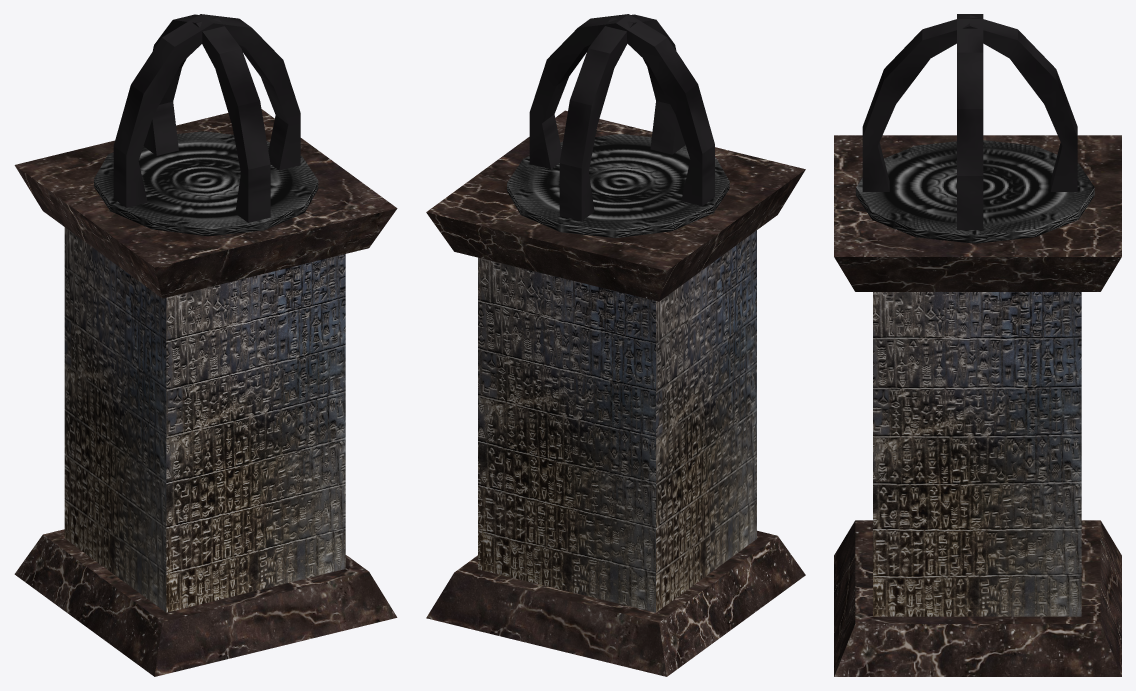
File: CHAINEDPILLAR_NoTop.fbx
3 views of the same model, side by side, from view 1: azimuth 30°, elevation 25°; view 2: azimuth 150°, elevation 25°; view 3: azimuth 270°, elevation 25° (orthographic). The views are drawn at different scales.
Visible parts, largest first — view 1: Mesh1; view 2: Mesh1; view 3: Mesh1.
Part boxes in pixels (x1,y1,x2,y2): Mesh1: [14, 14, 397, 676]; Mesh1: [426, 14, 805, 676]; Mesh1: [834, 14, 1121, 676].
Size of the model in its own units: 5.5 by 12.57 by 5.5.
